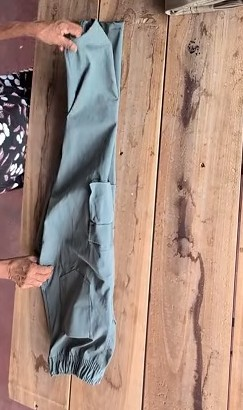TROUSER: (30, 19, 230, 362)
